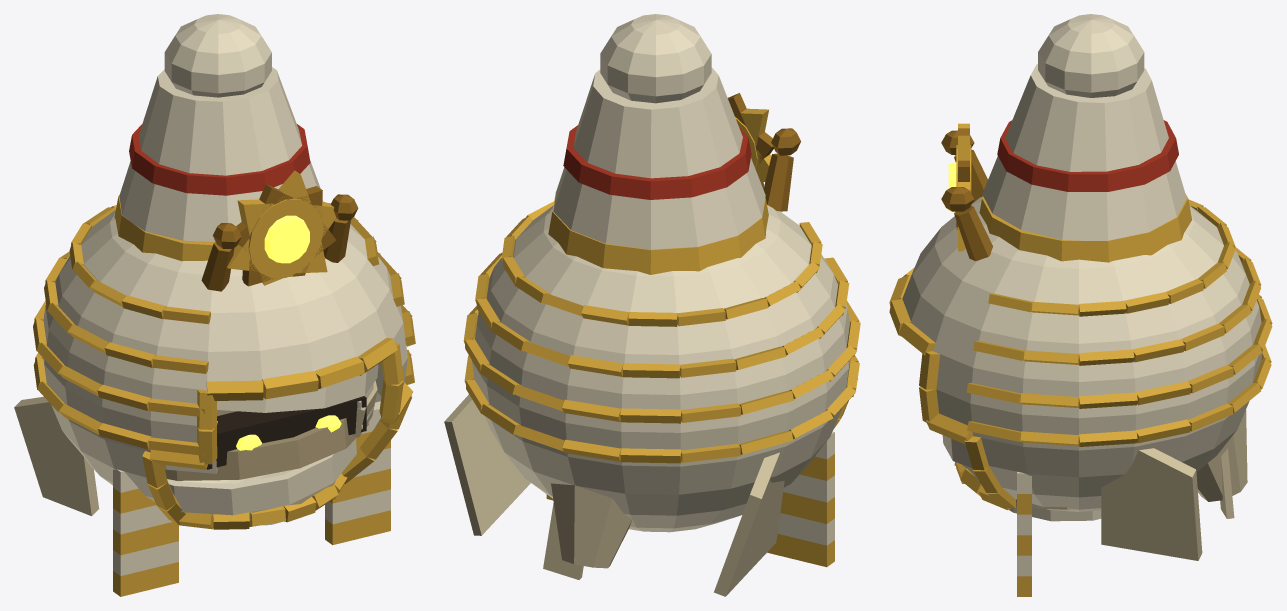
File: mummy_priest_head.glb
The picture shows the model from 3 angles, left to right: view 1: azimuth 30°, elevation 25°; view 2: azimuth 150°, elevation 25°; view 3: azimuth 270°, elevation 25°; orthographic projection. The views are drawn at different scales.
Visible parts, largest first — view 1: mummy_priest_head; view 2: mummy_priest_head; view 3: mummy_priest_head.
Boxes of the visible parts, left/top/right/bottom form: mummy_priest_head: left=14, top=14, right=415, bottom=596; mummy_priest_head: left=444, top=14, right=860, bottom=596; mummy_priest_head: left=889, top=14, right=1272, bottom=596.
Size of the model in its own units: 1.26 by 1.86 by 1.26.
